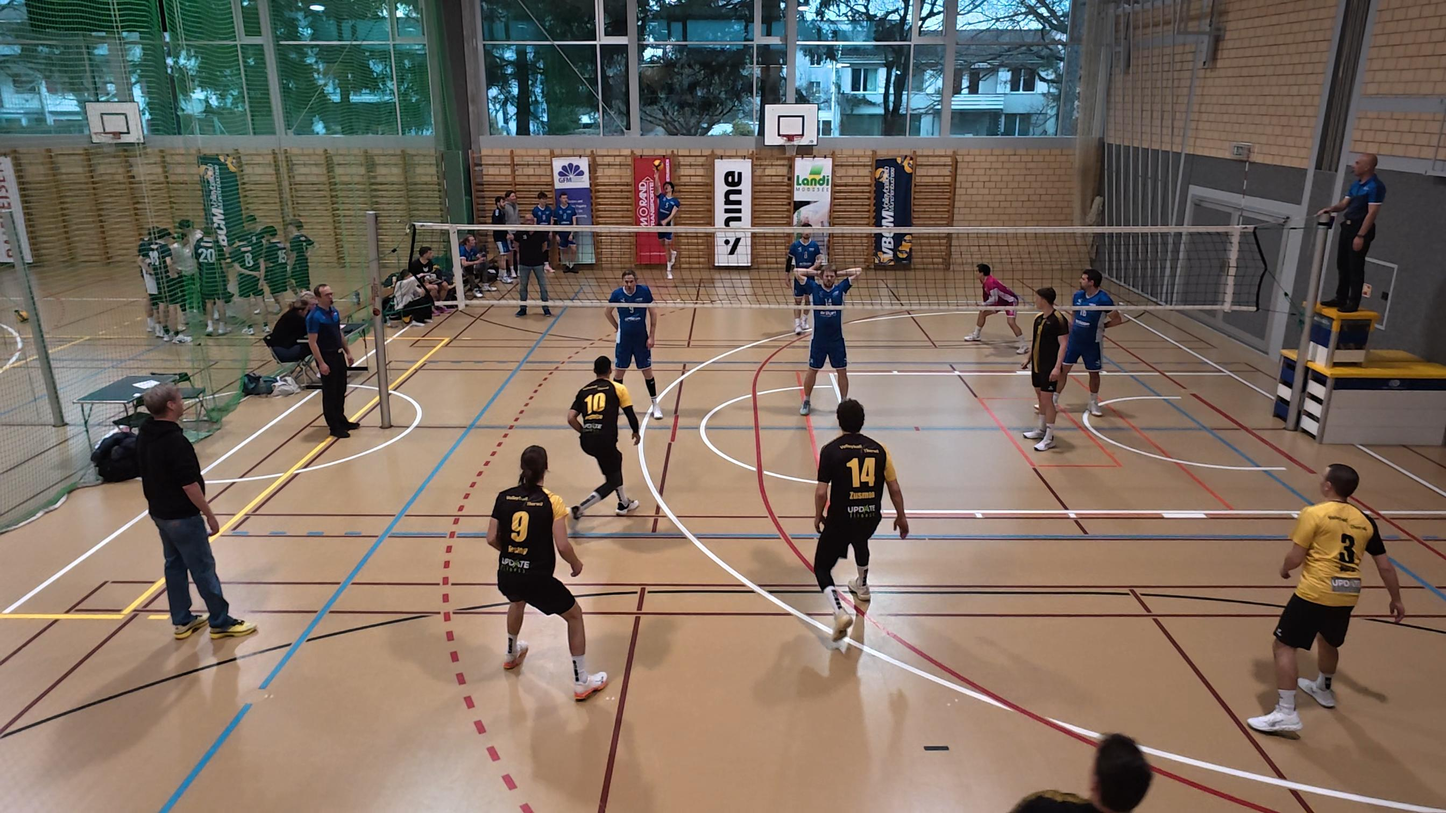Player: (1247, 463, 1404, 734), (490, 446, 607, 700), (813, 399, 908, 646), (566, 355, 640, 534), (1012, 733, 1153, 812), (1060, 270, 1126, 418), (798, 262, 860, 415), (605, 268, 663, 420), (1027, 288, 1071, 450), (969, 262, 1025, 348), (784, 225, 822, 337)
Serve: (644, 152, 684, 278)
ball: (651, 157, 666, 173)
